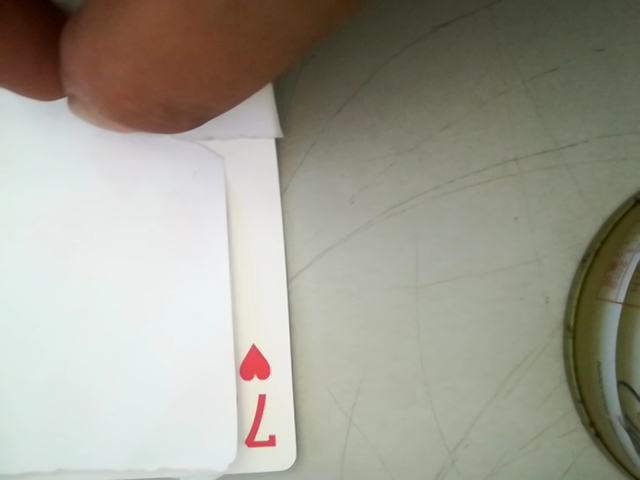hx 7: (216, 327, 283, 467)
